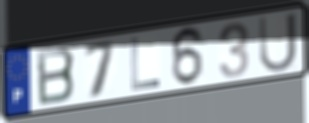3: (217, 21, 250, 79)
6: (170, 24, 208, 91)
7: (83, 38, 118, 100)
B: (34, 46, 77, 109)
L: (128, 36, 162, 93)
U: (256, 10, 299, 75)
